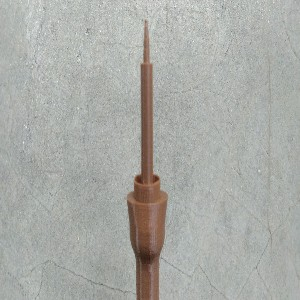solder: (126, 18, 169, 300)
